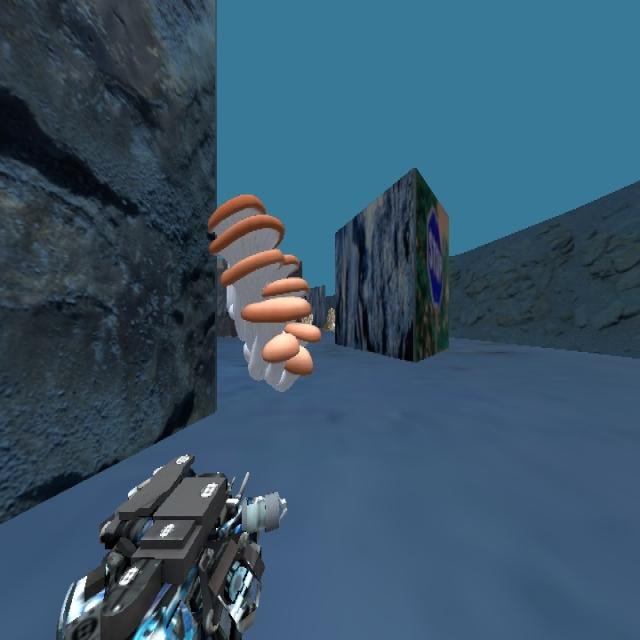Diamon: (333, 165, 450, 363)
Mushroom: (207, 192, 321, 392)
Stop_Sign: (414, 169, 450, 360), (425, 204, 443, 307)
